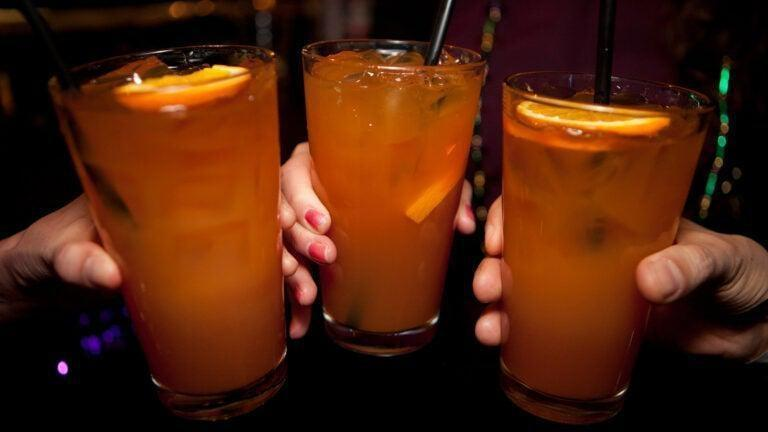glass-normal: (49, 42, 292, 422), (496, 68, 719, 425), (299, 38, 490, 356)
